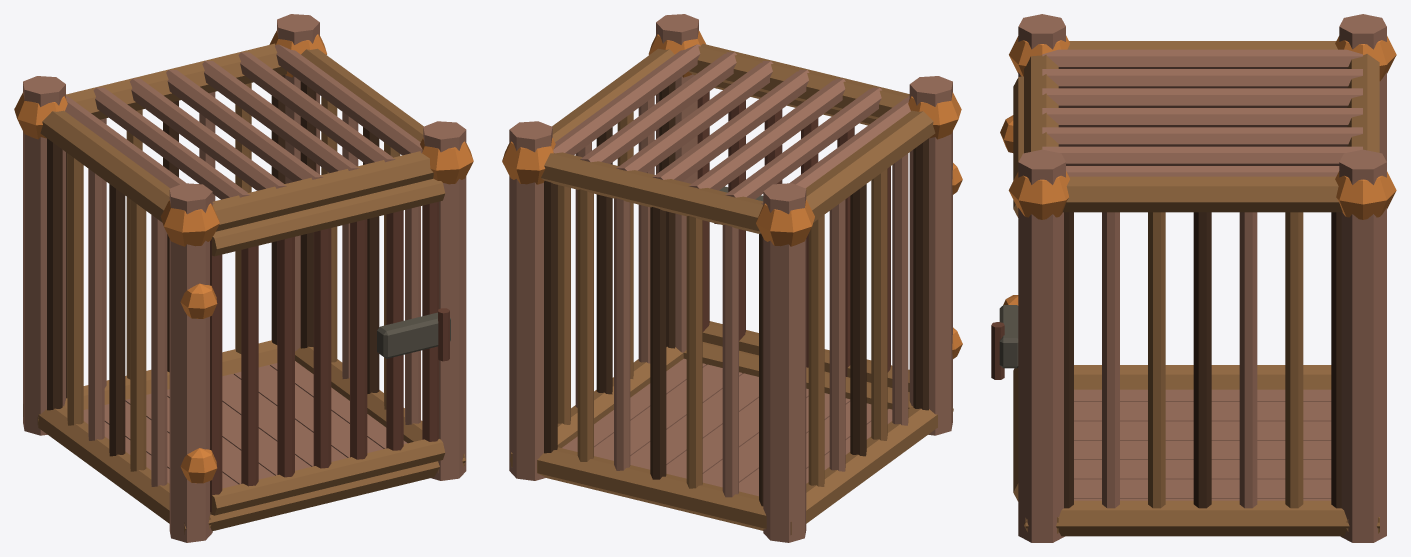
3 renders of one model, left to right at view 1: azimuth 30°, elevation 25°; view 2: azimuth 150°, elevation 25°; view 3: azimuth 270°, elevation 25°, orthographic. The views are drawn at different scales.
Visible parts, largest first — view 1: twig-cage; view 2: twig-cage; view 3: twig-cage.
Part boxes in pixels (x1,y1,x2,y2): twig-cage: (14,14,473,542); twig-cage: (502,14,962,542); twig-cage: (991,14,1396,542).
Size of the model in its own units: 2.54 by 2.71 by 2.65.
